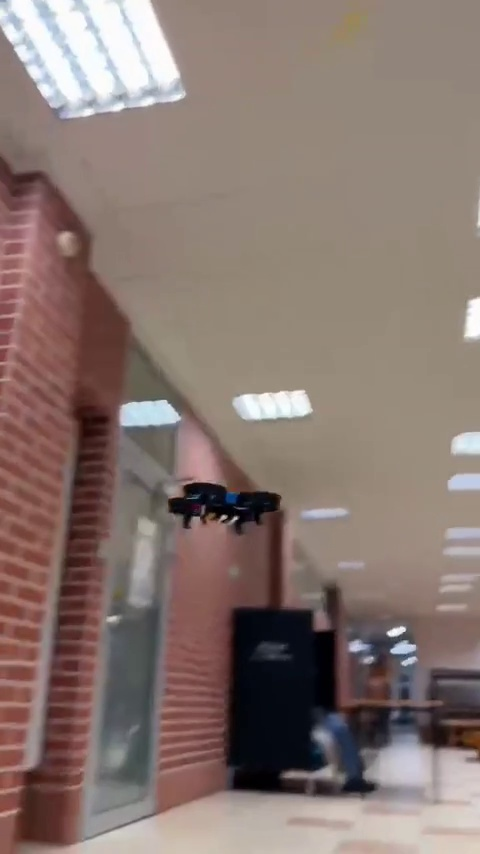drone: (155, 476, 289, 532)
